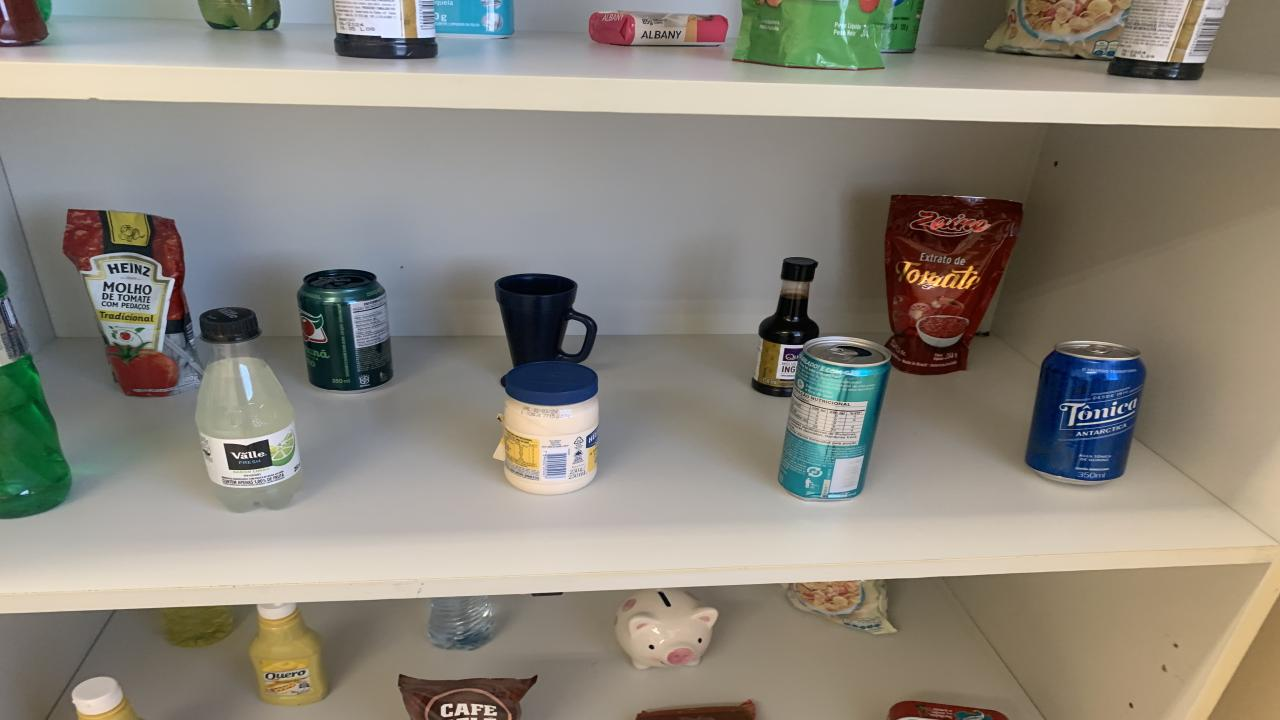Cleaner-Cleanup_Items: (435, 0, 515, 39)
Coffee-Pantry_Items: (398, 675, 538, 720)
Detergent-Cleanup_Items: (0, 272, 72, 518), (162, 606, 235, 647)
English_Sauce-Pantry_Items: (1108, 0, 1228, 81), (752, 257, 820, 398), (335, 0, 438, 58)
Flakes-Snacks: (985, 0, 1132, 60), (782, 579, 895, 634)
Guarana-Drinks: (198, 0, 280, 30)
Guarana_Can-Drinks: (298, 270, 392, 392)
Guava-Snacks: (635, 699, 755, 720)
Mayonnaise-Pantry_Items: (500, 362, 600, 495)
Mustard-Pantry_Items: (250, 602, 328, 705), (72, 677, 138, 720)
Pig_Safe-Miscellaneous: (615, 589, 718, 669)
Pringles-Snacks: (880, 0, 925, 52)
Soap-Cleanup_Items: (590, 11, 728, 45)
Soda-Drinks: (195, 308, 302, 512)
Tea-Drinks: (778, 338, 890, 501)
Tomato_Sauce-Pantry_Items: (62, 210, 200, 396), (885, 195, 1022, 375), (732, 0, 890, 69)
Tonic-Drinks: (1025, 341, 1145, 484)
Tuna_Can-Pantry_Items: (888, 701, 1008, 720)
Water_Bottle-Drinks: (428, 596, 495, 651)
